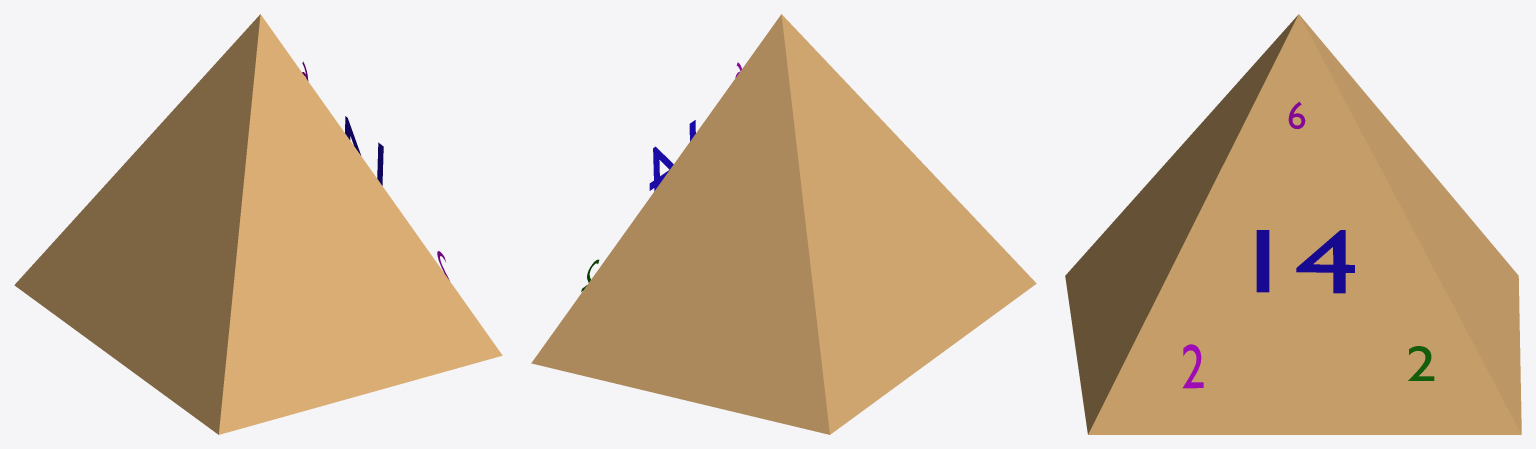
3 renders of one model, left to right at view 1: azimuth 30°, elevation 25°; view 2: azimuth 150°, elevation 25°; view 3: azimuth 270°, elevation 25°, orthographic. The views are drawn at different scales.
Parts seen in each view (by area): view 1: Cube; view 2: Cube, Text; view 3: Cube, Text.
Boxes of the visible parts, x1=… form: Cube: x1=14, y1=14, x2=502, y2=434; Cube: x1=531, y1=14, x2=1036, y2=434; Text: x1=649, y1=120, x2=695, y2=190; Cube: x1=1065, y1=14, x2=1521, y2=434; Text: x1=1256, y1=230, x2=1354, y2=293.
Size of the model in its own units: 200 by 200 by 242.
